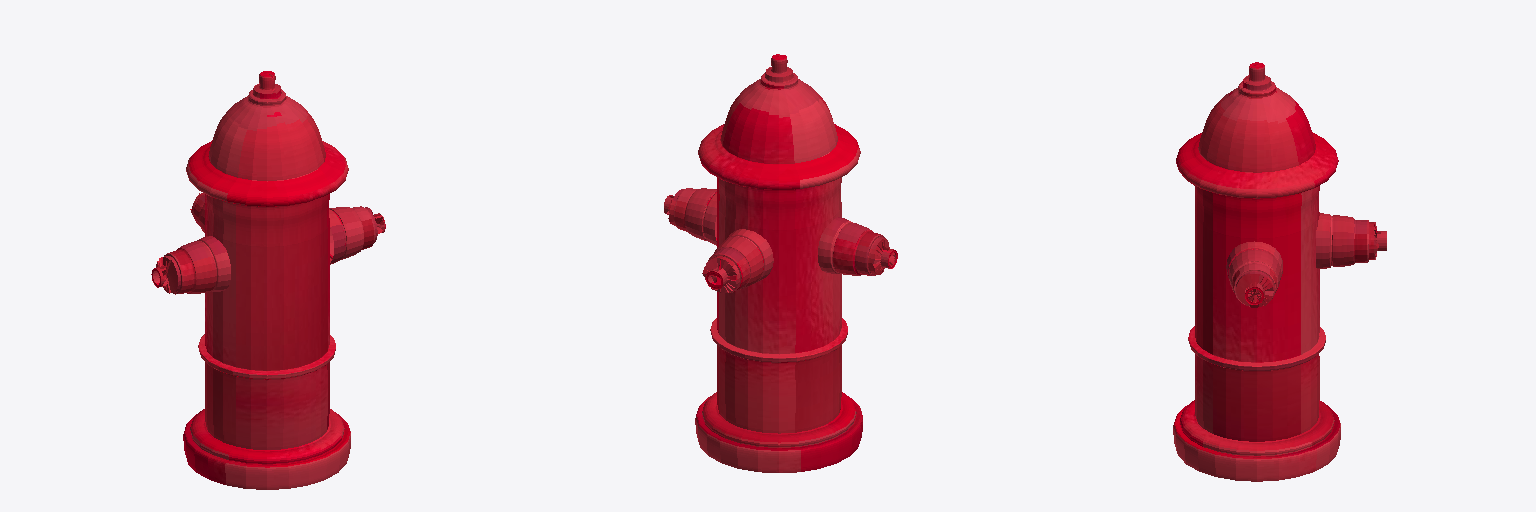
3 views of the same model, side by side, from view 1: azimuth 30°, elevation 25°; view 2: azimuth 150°, elevation 25°; view 3: azimuth 270°, elevation 25° (orthographic).
Parts seen in each view (by area): view 1: hidrante_Material.002; view 2: hidrante_Material.002; view 3: hidrante_Material.002.
Part boxes in pixels (x1,y1,x2,y2): hidrante_Material.002: (151, 71, 385, 489); hidrante_Material.002: (664, 54, 897, 472); hidrante_Material.002: (1173, 62, 1386, 481).
Size of the model in its own units: 5.36 by 8.73 by 4.42.
1 materials, 1 textured.